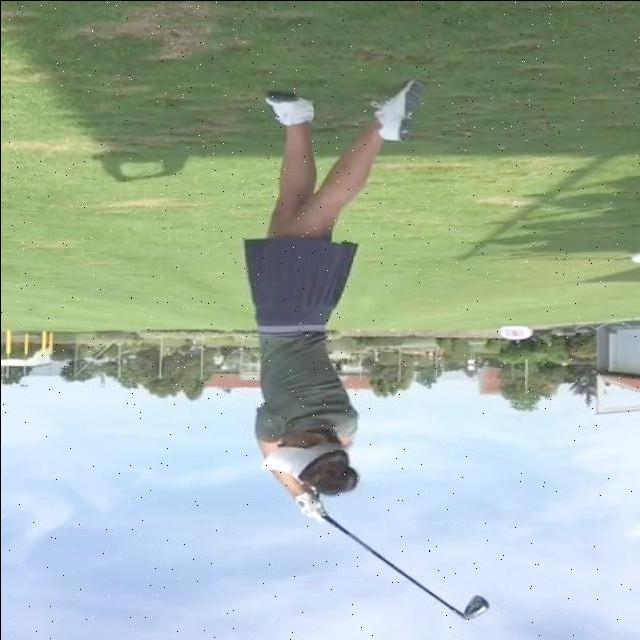golf club-handle: (321, 511, 492, 621)
golf club-head: (459, 593, 490, 621)
